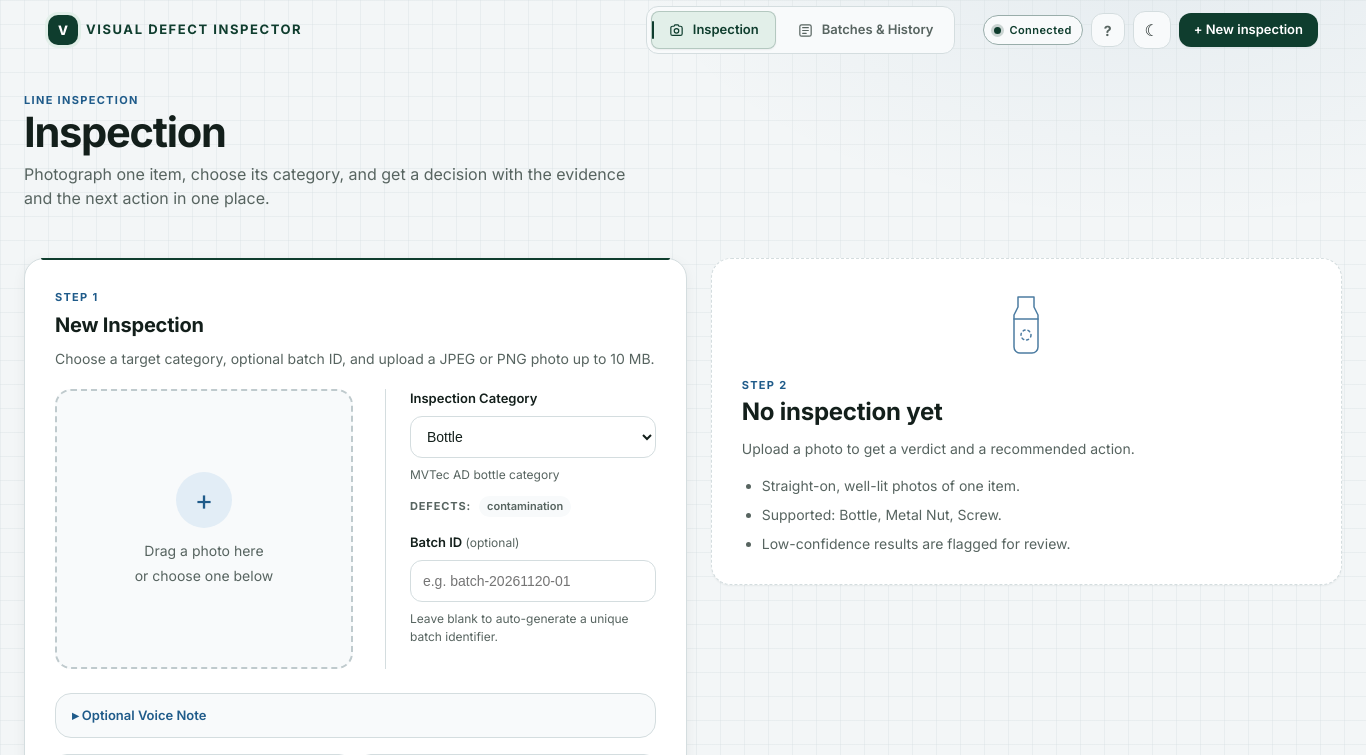
App › switches to batch history and opens a stored inspection
Click the button "Batches & History": (865, 30) [780,11,950,49]
(page scrolled)
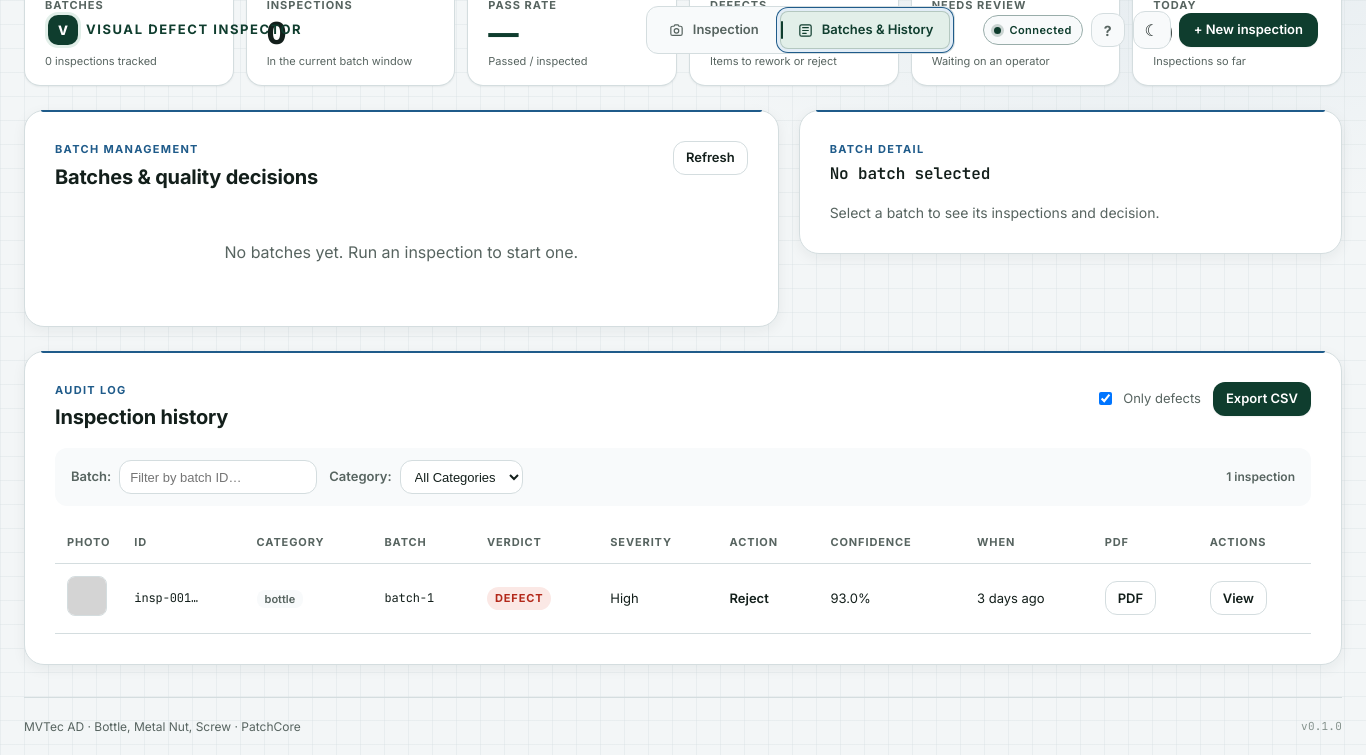
Check: the heading "Inspection history" is shown, box [55,402,228,432]
Click the button "View": (1238, 598) [1210,581,1267,615]
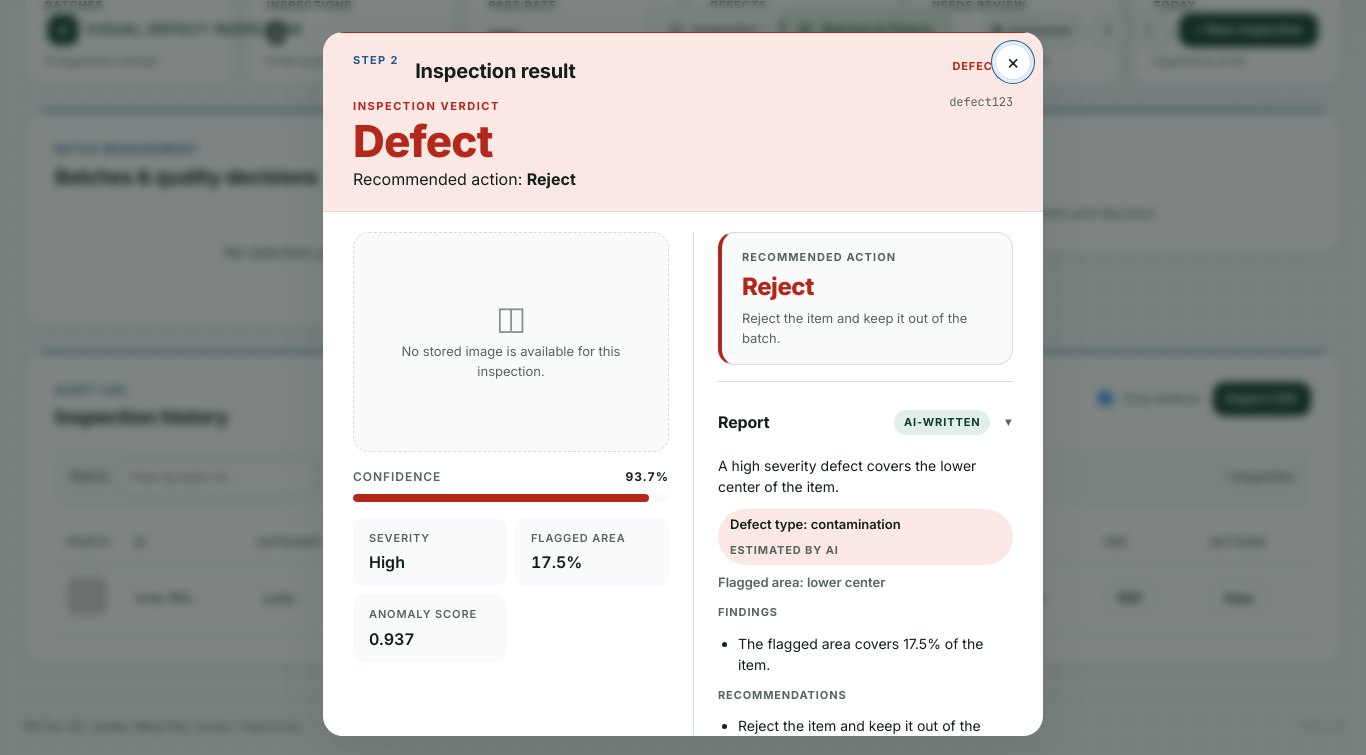
Check: the heading "Inspection result" is shown, box [415,56,576,86]
Click the button named "Close result": (1013, 62) [995,44,1031,80]
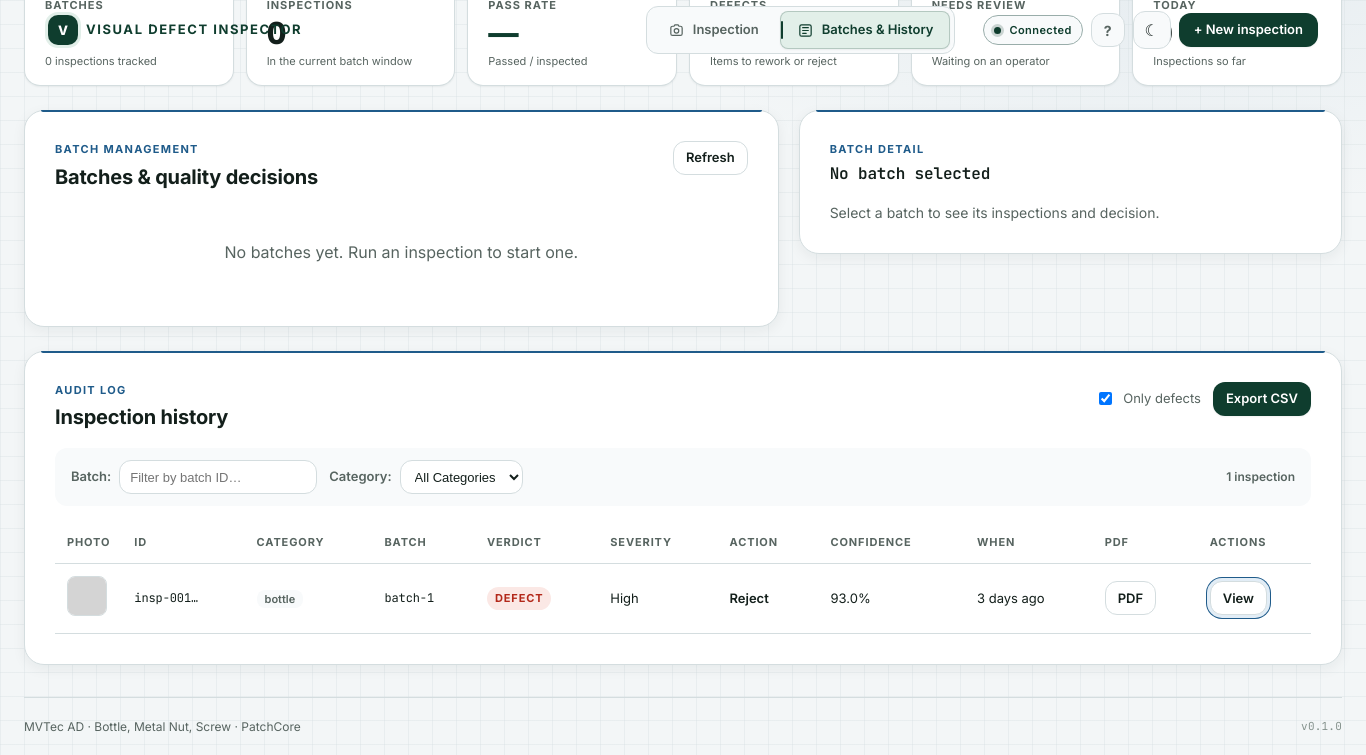
Check: the heading "Inspection result" is gone
